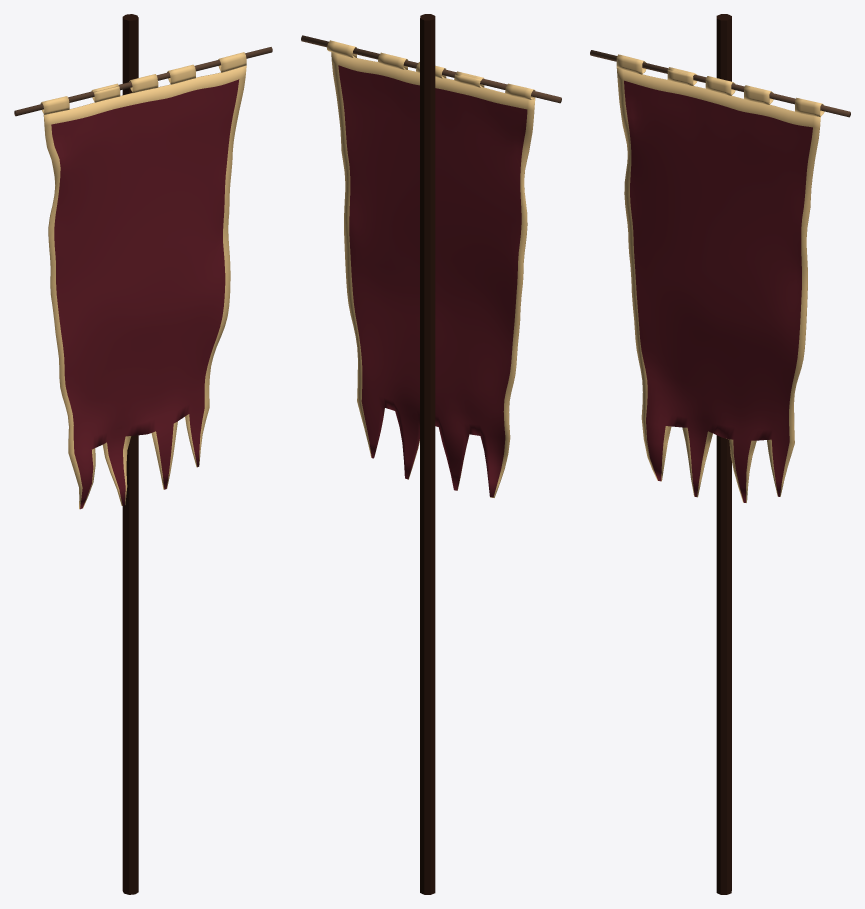
File: STENDARDO PROVA.fbx
3 views of the same model, side by side, from view 1: azimuth 30°, elevation 25°; view 2: azimuth 150°, elevation 25°; view 3: azimuth 330°, elevation 25° (orthographic).
Visible parts, largest first — view 1: arazzo.011, Cylinder.017; view 2: arazzo.011, Cylinder.017; view 3: arazzo.011, Cylinder.017.
Boxes of the visible parts, left/top/right/bottom form: arazzo.011: left=14, top=47, right=272, bottom=509; Cylinder.017: left=122, top=14, right=138, bottom=894; arazzo.011: left=301, top=35, right=561, bottom=497; Cylinder.017: left=420, top=14, right=435, bottom=894; arazzo.011: left=590, top=50, right=850, bottom=502; Cylinder.017: left=716, top=14, right=731, bottom=894.
Size of the model in its own units: 277 by 899 by 32.64.
